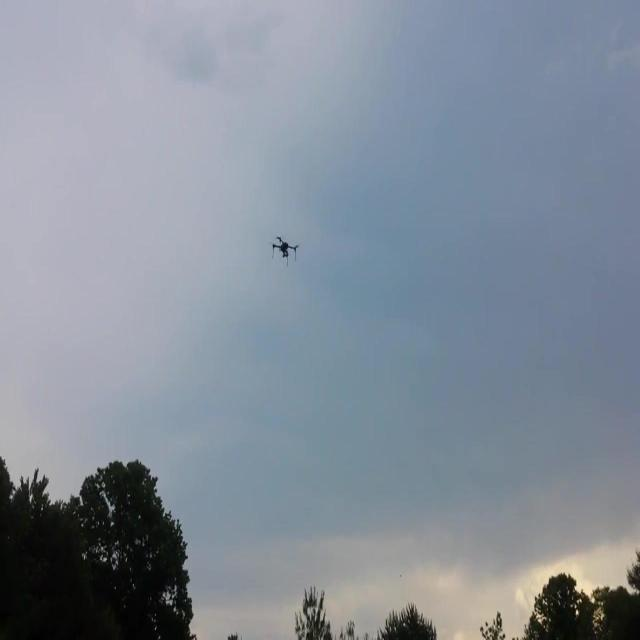drone: (267, 232, 302, 270)
